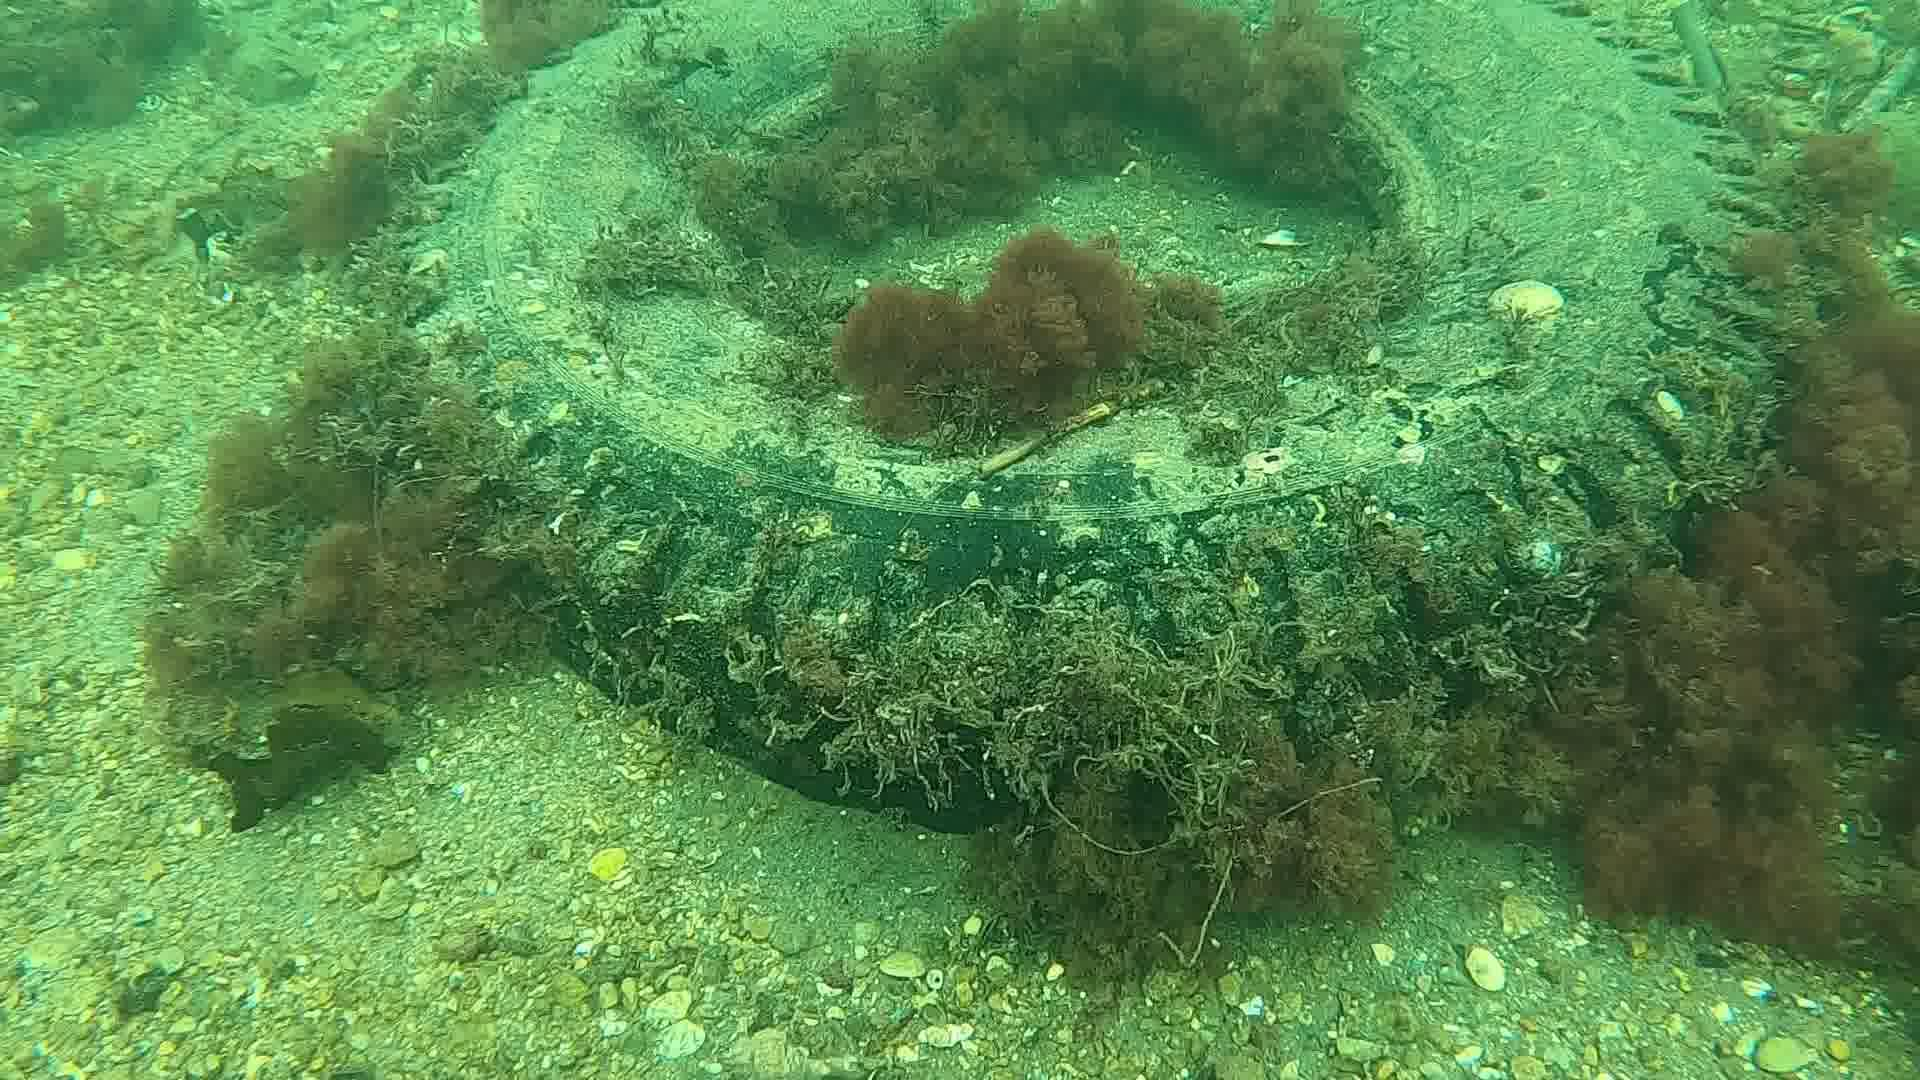tire: (400, 3, 1789, 833)
